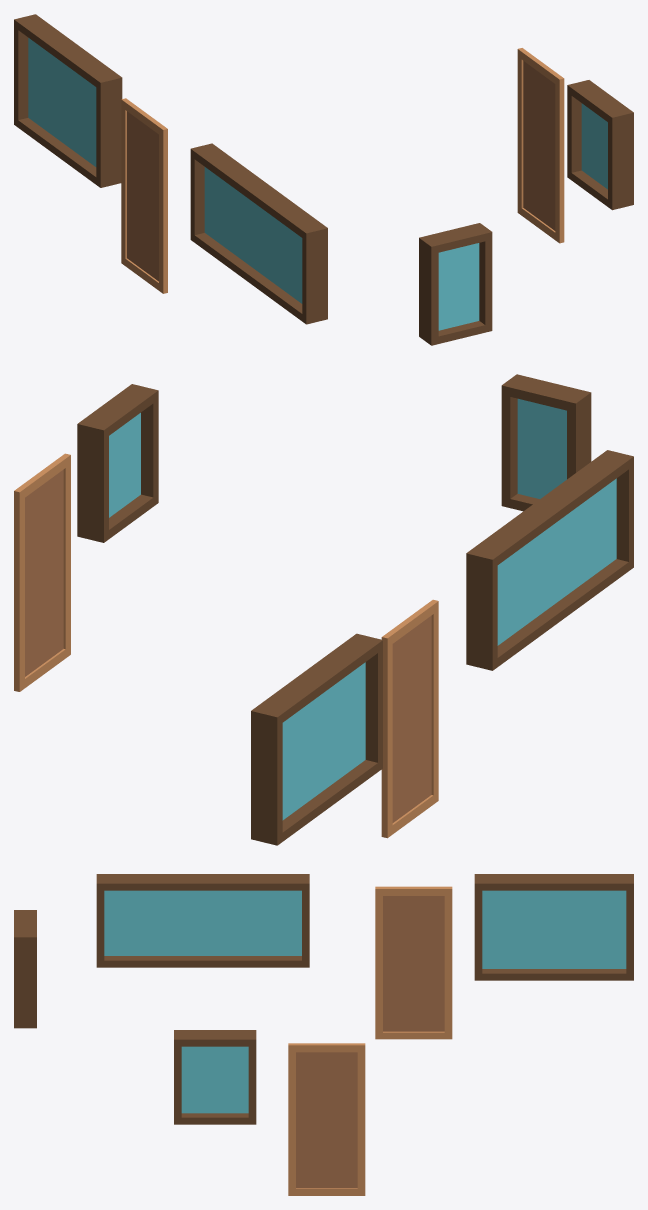
The model's file is WindowsDoors.fbx.
3 views of the same model, one above another, from view 1: azimuth 30°, elevation 25°; view 2: azimuth 150°, elevation 25°; view 3: azimuth 270°, elevation 25° (orthographic). The views are drawn at different scales.
Visible parts, largest first — view 1: Window2, Window1, Window3, Door2, Door1, Window4; view 2: Window2, Window1, Door2, Door1, Window4, Window3; view 3: Window2, Window1, Door1, Door2, Window4, Window3.
Boxes of the visible parts, x1,y1,x2,y2 form: Window2: (190,143,327,324); Window1: (14,14,122,187); Window3: (419,223,492,345); Door2: (517,48,564,243); Door1: (121,98,167,293); Window4: (567,80,633,210); Window2: (466,450,633,670); Window1: (251,633,382,845); Door2: (14,453,70,691); Door1: (381,599,438,838); Window4: (77,384,158,542); Window3: (501,374,591,511); Window2: (96,874,309,967); Window1: (474,874,633,980); Door1: (375,886,452,1039); Door2: (288,1043,365,1195); Window4: (174,1030,256,1124); Window3: (14,910,36,1028).
Size of the model in its own units: 806 by 510 by 229.
